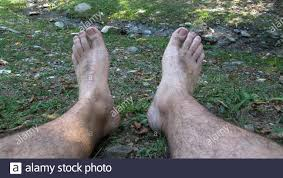Feet: (146, 25, 206, 129), (70, 26, 120, 129)
